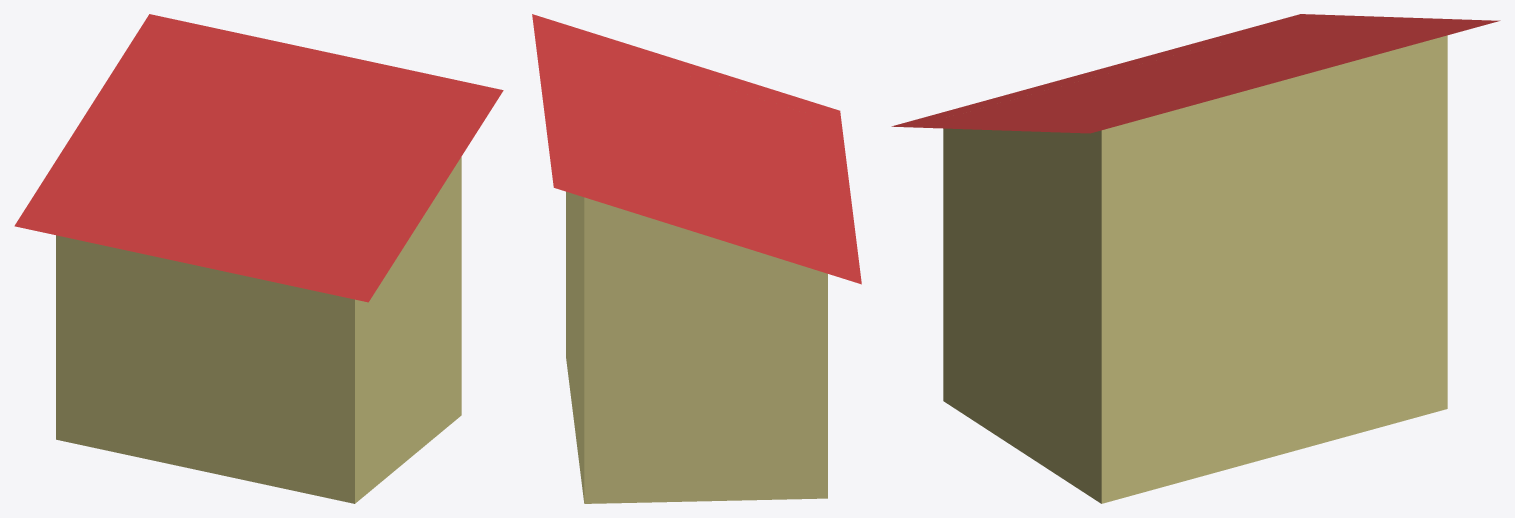
The picture shows the model from 3 angles, left to right: view 1: azimuth 30°, elevation 25°; view 2: azimuth 150°, elevation 25°; view 3: azimuth 270°, elevation 25°; orthographic projection. The views are drawn at different scales.
Bounding box in the file's own units: 11.22 × 11.92 × 8.47.
